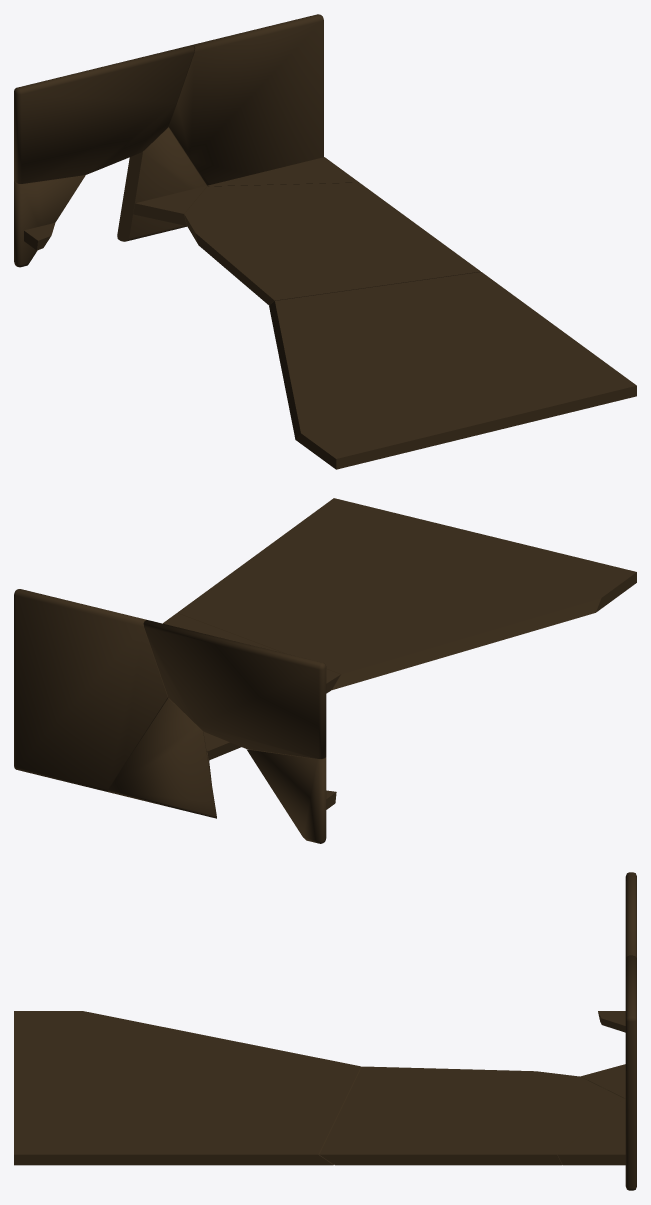
File: Cama_Roto.fbx
3 views of the same model, one above another, from view 1: azimuth 30°, elevation 25°; view 2: azimuth 150°, elevation 25°; view 3: azimuth 270°, elevation 25° (orthographic). The views are drawn at different scales.
Parts seen in each view (by area): view 1: Cama.001_cell.003, Cama.001_cell.007, Cama.001_cell.001, Cama.001_cell.005, Cama.001_cell.006, Cama.001_cell.004; view 2: Cama.001_cell.003, Cama.001_cell.001, Cama.001_cell.005, Cama.001_cell.006, Cama.001_cell.004, Cama.001_cell.007; view 3: Cama.001_cell.003, Cama.001_cell.007, Cama.001_cell.001, Cama.001_cell.005, Cama.001_cell.006, Cama.001_cell.004.
Boxes of the visible parts, x1=… form: Cama.001_cell.003: x1=269, y1=272, x2=636, y2=469; Cama.001_cell.007: x1=184, y1=182, x2=480, y2=304; Cama.001_cell.001: x1=168, y1=14, x2=358, y2=186; Cama.001_cell.005: x1=14, y1=45, x2=194, y2=183; Cama.001_cell.006: x1=117, y1=127, x2=207, y2=241; Cama.001_cell.004: x1=14, y1=175, x2=85, y2=267; Cama.001_cell.003: x1=177, y1=498, x2=636, y2=689; Cama.001_cell.001: x1=14, y1=589, x2=168, y2=791; Cama.001_cell.005: x1=143, y1=620, x2=326, y2=758; Cama.001_cell.006: x1=107, y1=698, x2=216, y2=818; Cama.001_cell.004: x1=246, y1=749, x2=336, y2=843; Cama.001_cell.007: x1=163, y1=613, x2=340, y2=760; Cama.001_cell.003: x1=14, y1=1011, x2=361, y2=1165; Cama.001_cell.007: x1=319, y1=1066, x2=623, y2=1165; Cama.001_cell.001: x1=558, y1=956, x2=636, y2=1190; Cama.001_cell.005: x1=625, y1=872, x2=636, y2=958; Cama.001_cell.006: x1=580, y1=1064, x2=625, y2=1098; Cama.001_cell.004: x1=598, y1=1011, x2=625, y2=1032.
Bounding box in the file's own units: 130 × 72.01 × 233.
